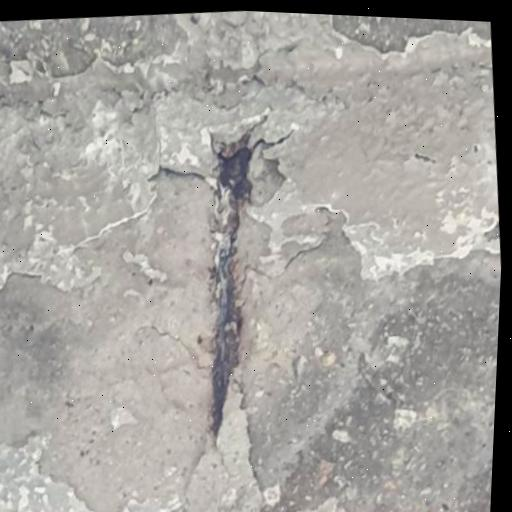exposed_rebar: (211, 122, 286, 433)
